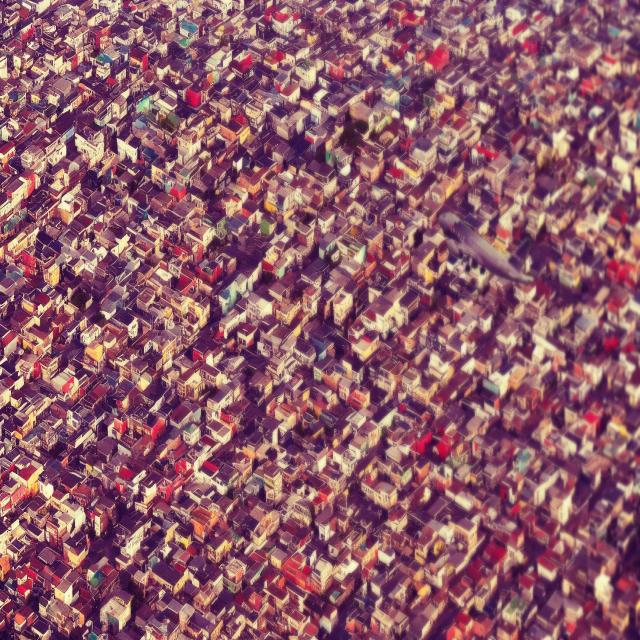airplane: (437, 212, 532, 285)
